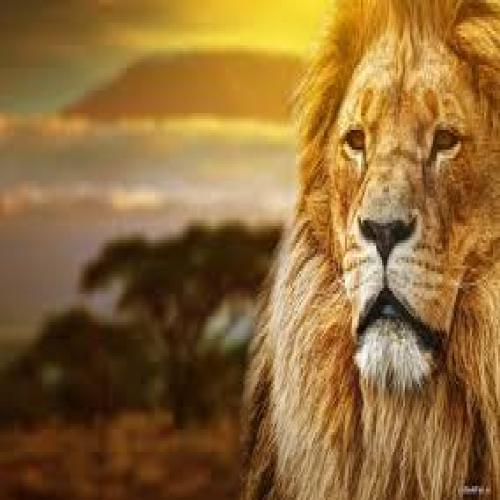lion-endangered: (278, 2, 499, 500)
